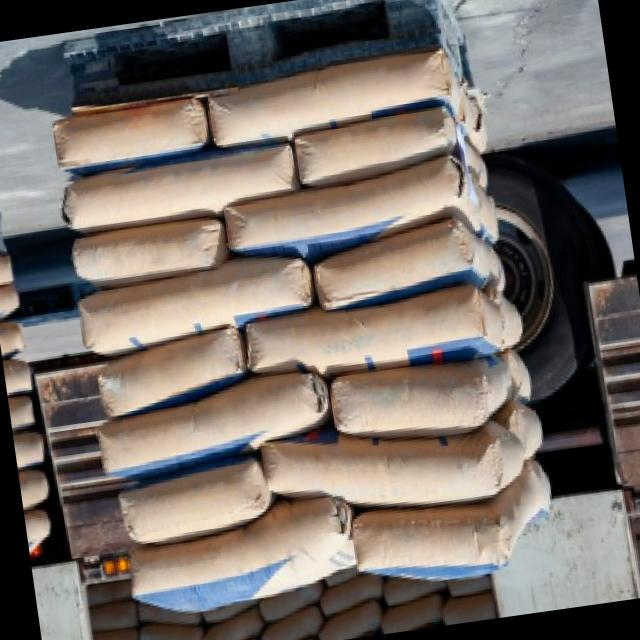KantongSemen: (44, 34, 562, 630)
